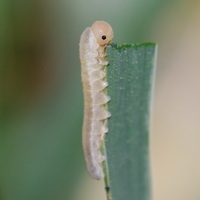insect: (79, 21, 112, 199), (79, 21, 112, 178)
